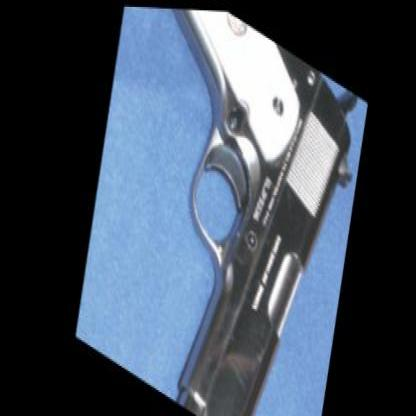pistol: (57, 1, 377, 413)
